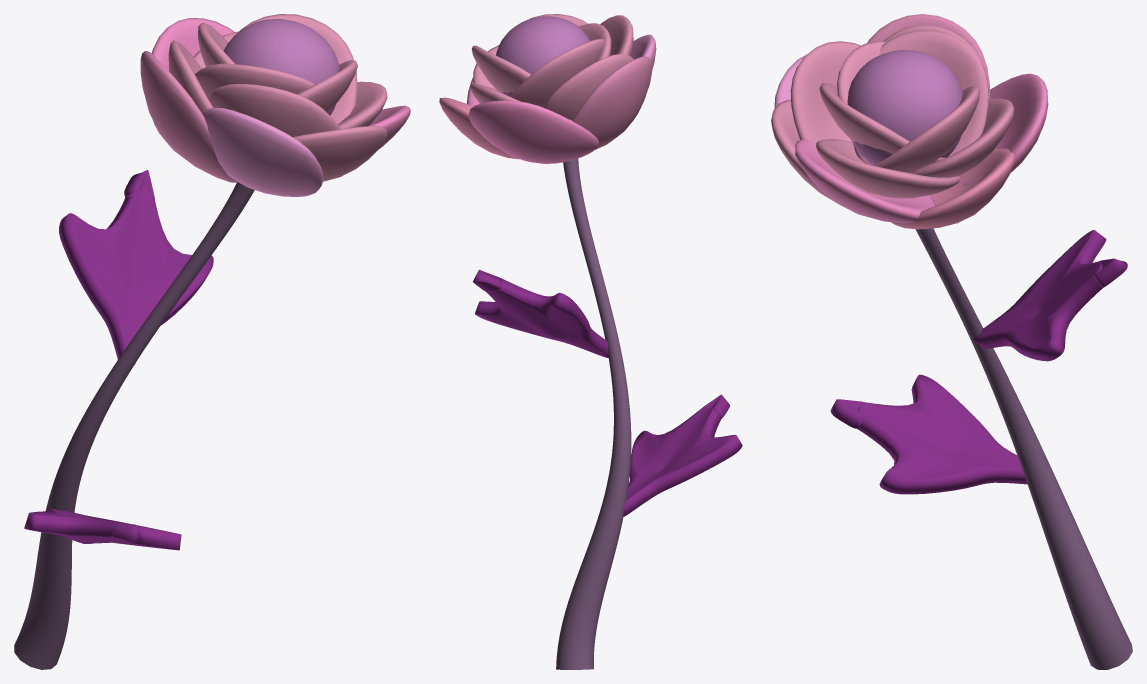
Rendered from rosemodel.glb.
3 views of the same model, side by side, from view 1: azimuth 30°, elevation 25°; view 2: azimuth 150°, elevation 25°; view 3: azimuth 270°, elevation 25° (orthographic). The views are drawn at different scales.
Visible parts, largest first — view 1: NurbsPath, Plane.015, Plane.011, Cube, Plane.010, Plane.004, Plane.016, Plane.012, Plane.001, Plane.003, Plane.009, Plane.007 (+4 smaller); view 2: NurbsPath, Plane.016, Plane.009, Plane.015, Plane.010, Cube, Plane, Plane.007, Plane.003, Plane.008, Plane.004, Plane.001 (+2 smaller); view 3: NurbsPath, Plane.016, Plane.015, Cube, Plane.004, Plane, Plane.008, Plane.013, Plane.005, Plane.009, Plane.003, Plane.006 (+5 smaller).
Boxes of the visible parts, box(x1,y1,x2,y2) form: NurbsPath: box(14, 182, 254, 669); Plane.015: box(59, 170, 213, 364); Plane.011: box(201, 107, 323, 196); Cube: box(223, 18, 339, 115); Plane.010: box(140, 51, 237, 182); Plane.004: box(209, 84, 340, 136); Plane.016: box(24, 508, 181, 550); Plane.012: box(293, 126, 387, 181); Plane.001: box(195, 63, 314, 100); Plane.003: box(239, 14, 357, 123); Plane.009: box(151, 18, 234, 134); Plane.007: box(168, 40, 212, 112); NurbsPath: box(556, 158, 631, 669); Plane.016: box(623, 394, 742, 516); Plane.009: box(469, 100, 599, 163); Plane.015: box(472, 270, 608, 357); Plane.010: box(572, 56, 652, 149); Cube: box(496, 16, 589, 96); Plane: box(510, 39, 605, 107); Plane.007: box(544, 54, 633, 120); Plane.003: box(471, 45, 530, 92); Plane.008: box(439, 97, 519, 159); Plane.004: box(600, 15, 633, 56); Plane.001: box(579, 23, 611, 61); NurbsPath: box(915, 228, 1132, 669); Plane.016: box(830, 374, 1027, 494); Plane.015: box(973, 230, 1127, 361); Cube: box(847, 50, 962, 164); Plane.004: box(790, 41, 860, 142); Plane: box(853, 30, 988, 163); Plane.008: box(891, 148, 1015, 229); Plane.013: box(795, 139, 935, 223); Plane.005: box(816, 139, 960, 198); Plane.009: box(963, 73, 1048, 186); Plane.003: box(868, 86, 979, 173); Plane.006: box(911, 98, 1014, 177).
Bounding box in the file's own units: 2.21 × 4.18 × 2.04.
